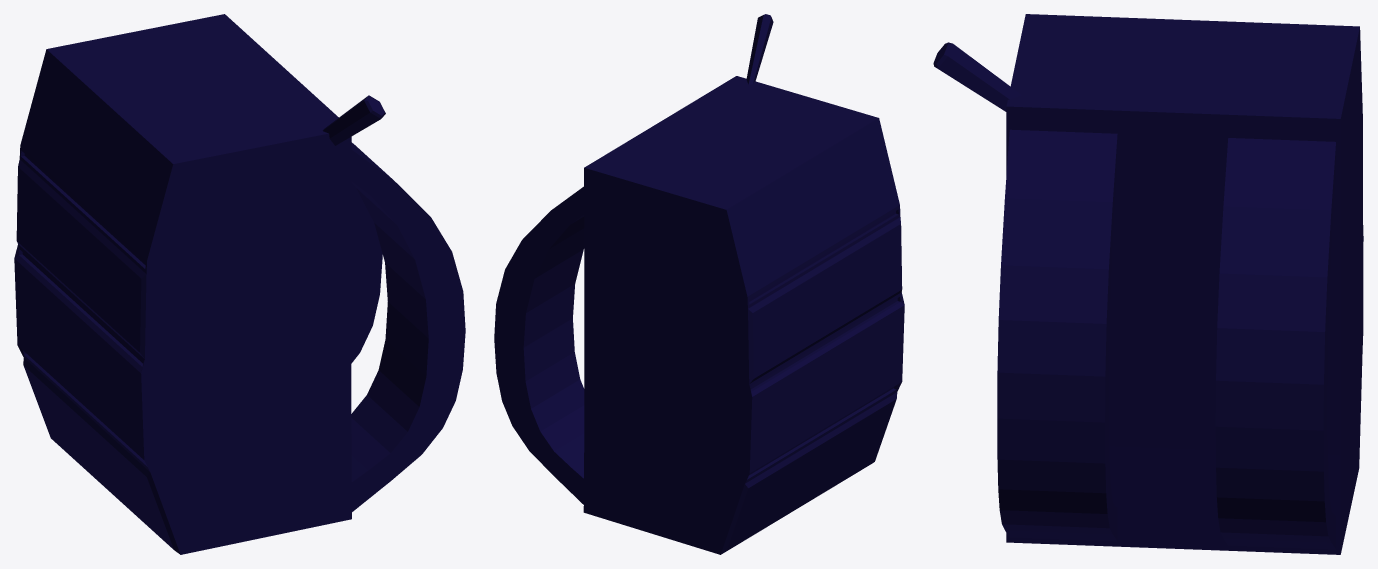
File: backpack.glb
3 views of the same model, side by side, from view 1: azimuth 30°, elevation 25°; view 2: azimuth 150°, elevation 25°; view 3: azimuth 270°, elevation 25° (orthographic). The views are drawn at different scales.
Parts seen in each view (by area): view 1: Backpack; view 2: Backpack; view 3: Backpack.
Boxes of the visible parts, x1=… form: Backpack: x1=14, y1=14, x2=465, y2=554; Backpack: x1=494, y1=14, x2=904, y2=554; Backpack: x1=933, y1=14, x2=1363, y2=554.
Bounding box in the file's own units: 0.4359 × 0.5578 × 0.4372.
